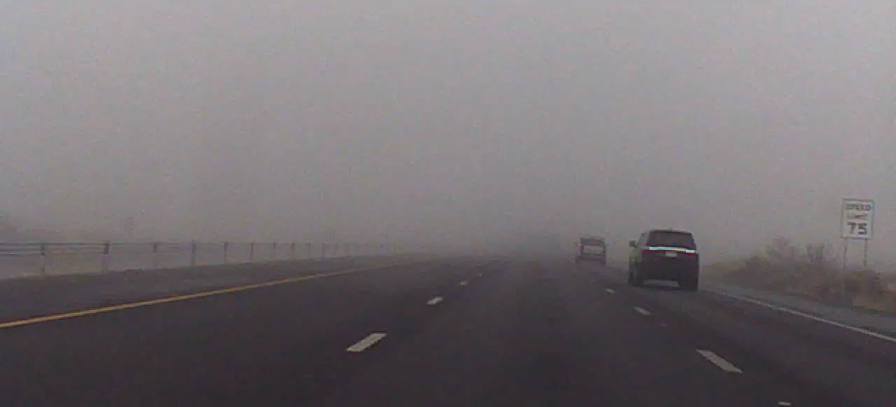car: (628, 228, 701, 292), (574, 233, 607, 263)
